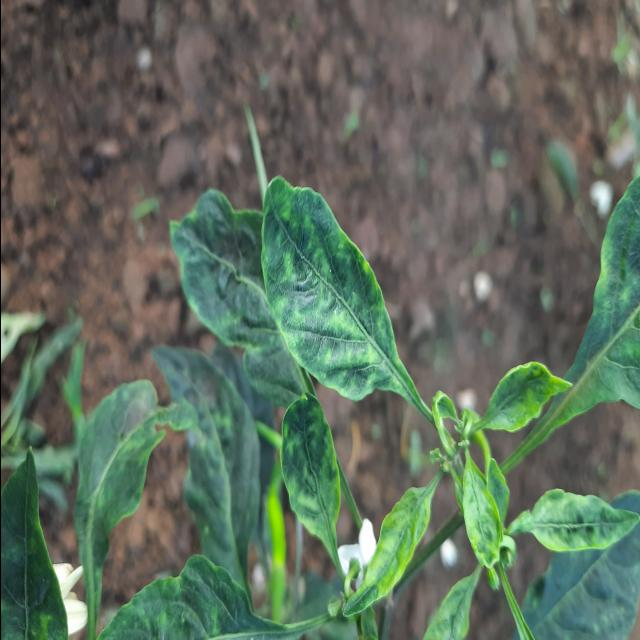thrips: (258, 142, 428, 398), (272, 372, 347, 588), (341, 458, 442, 614), (472, 341, 570, 438)
